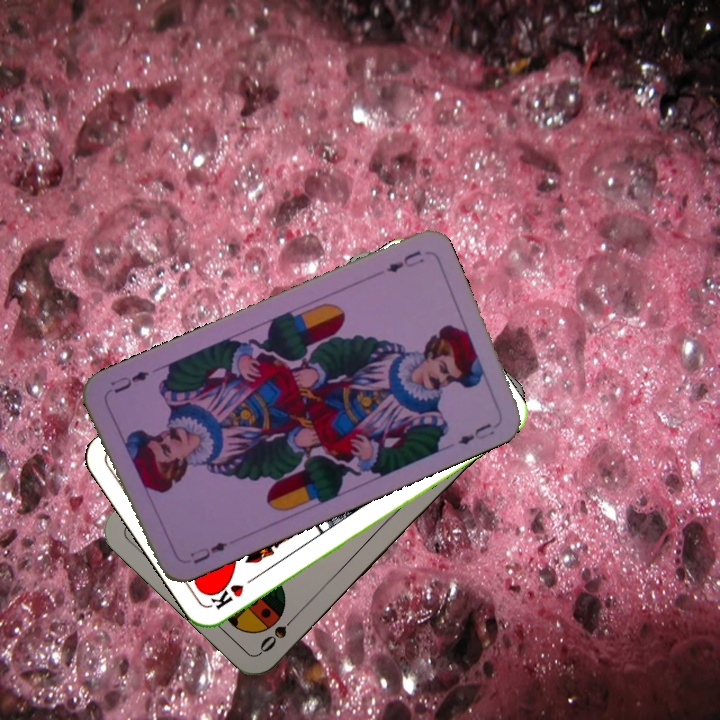EU: (382, 246, 426, 276), (186, 538, 230, 567)
HK: (206, 570, 261, 612)
SO: (255, 608, 302, 655)
